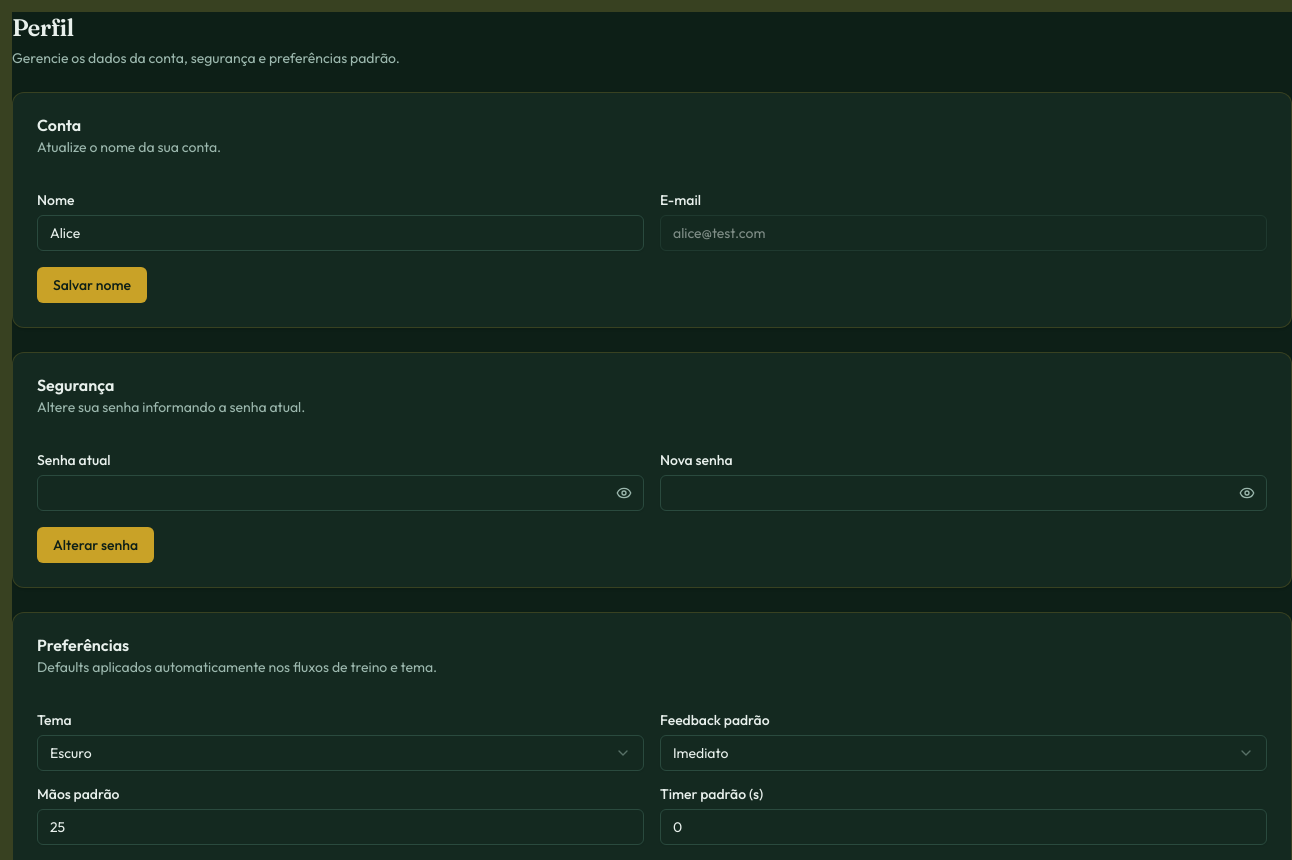
Scenario: ProfilePage › atualiza nome e sincroniza o estado autenticado
Replace the text in the field labelled "Nome" with "Alice Cooper" at [340, 233], box x1=37 y1=215 x2=644 y2=251
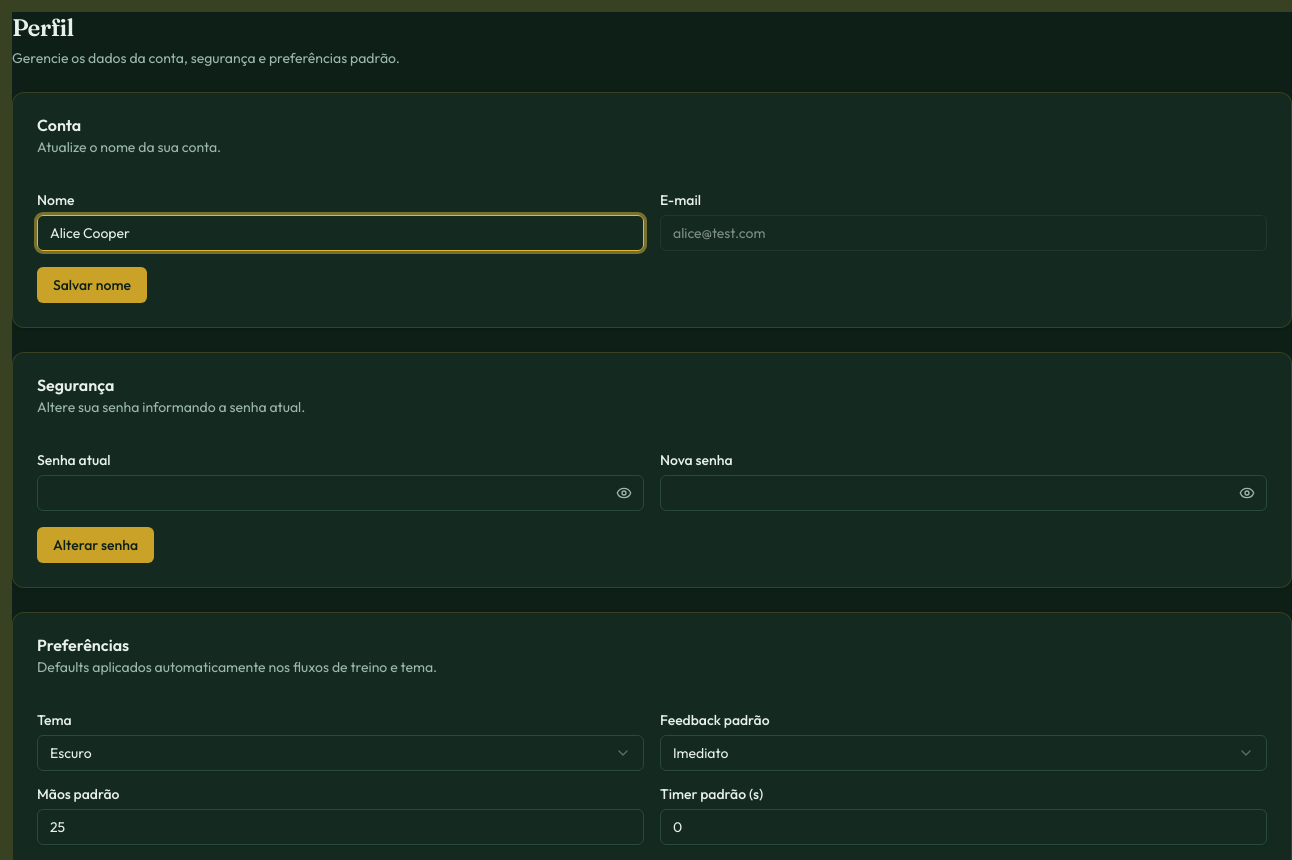
Click the button "Salvar nome" at [92, 285], box x1=37 y1=267 x2=147 y2=303
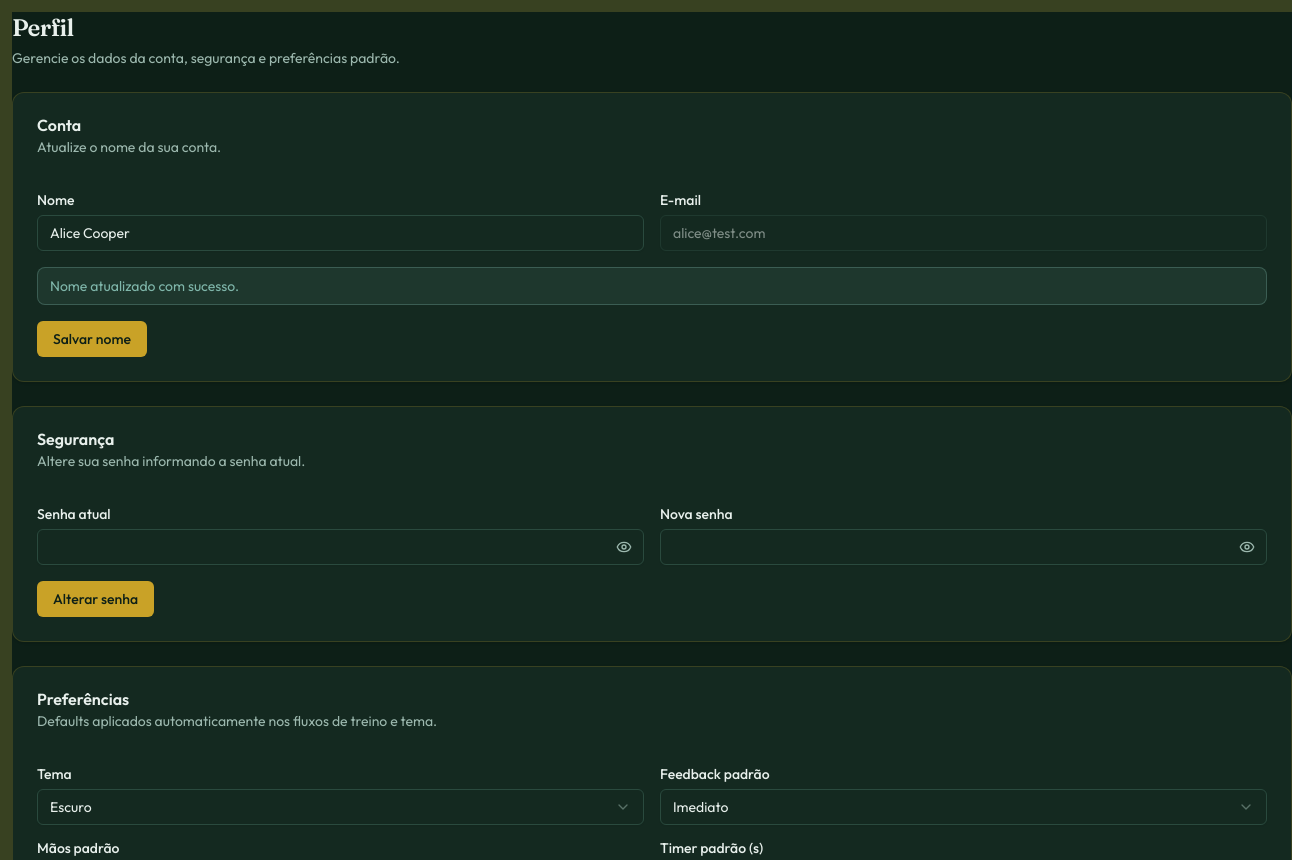
Check: the text "Nome atualizado com sucesso." is shown, box x1=37 y1=267 x2=1267 y2=305
